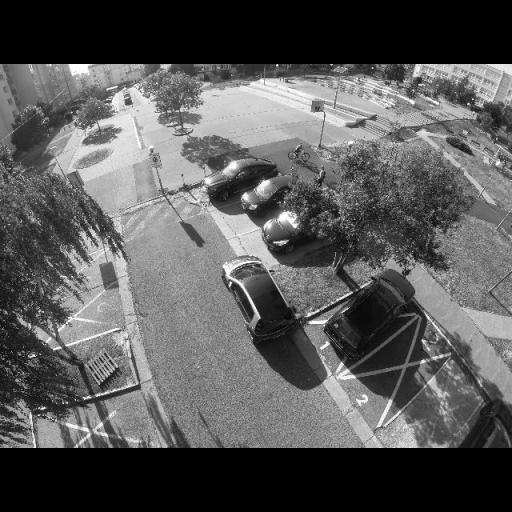busy: (326, 274, 418, 362), (222, 262, 295, 340), (259, 202, 325, 252), (207, 156, 273, 200), (244, 174, 297, 216)
free: (388, 366, 482, 440), (64, 412, 146, 448), (56, 300, 106, 332), (69, 263, 102, 286)
